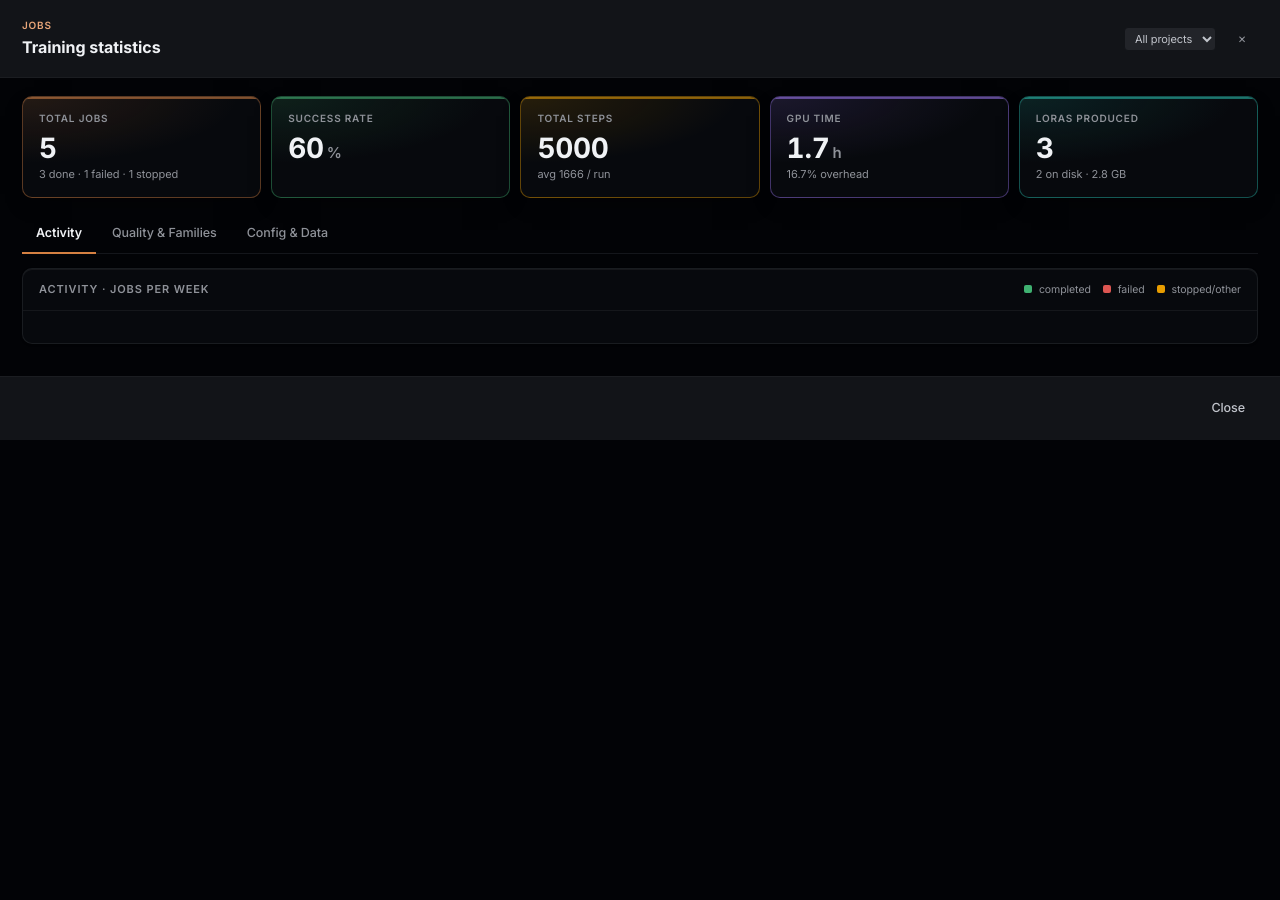
Scenario: TrainingStatsModalComponent › renders the family table with success-rate bars
Step 1. Click the button with class "tab" showing "Quality & Families" → (164, 234), box [98,214,231,254]
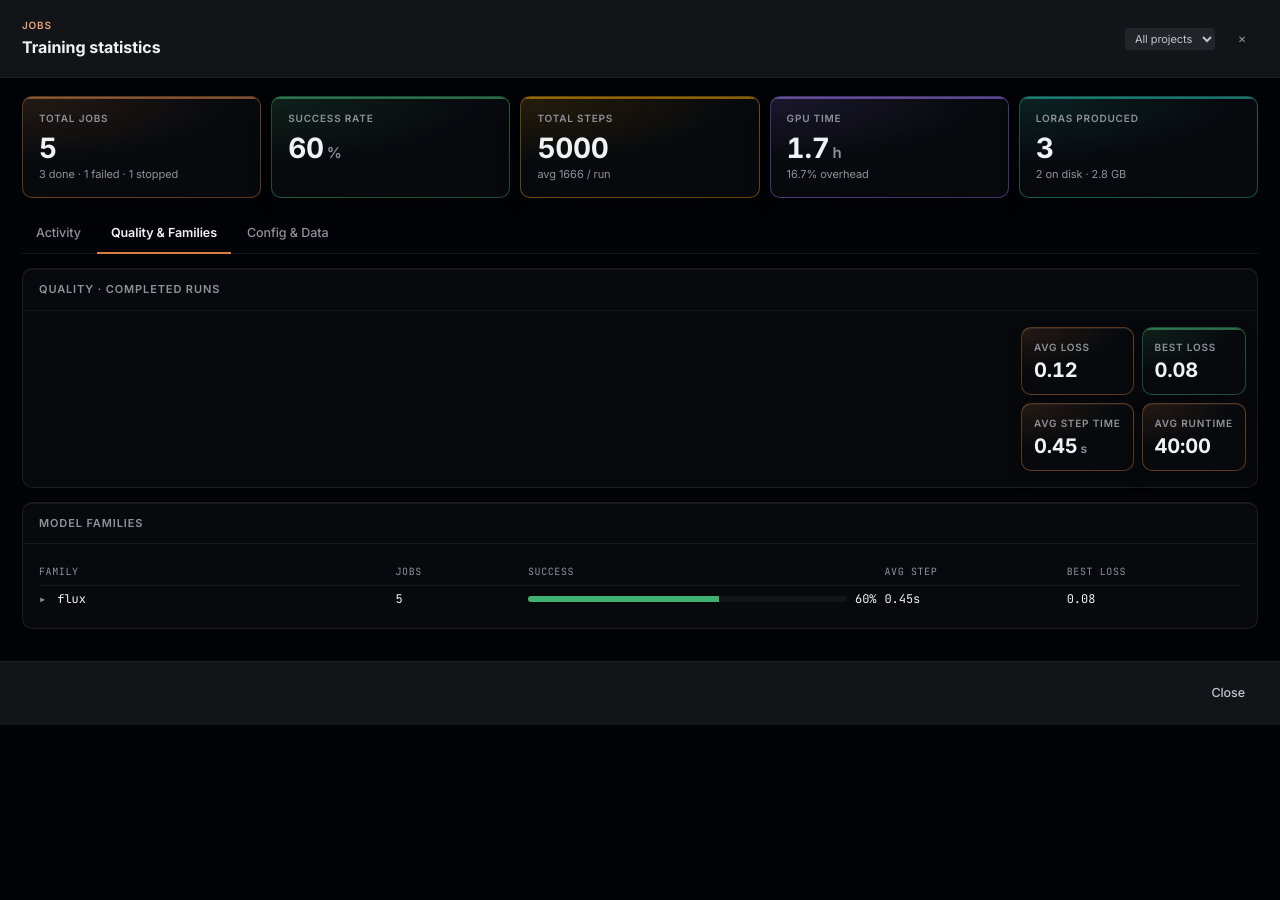
expect the number of elements with test id "stats-family-row" is 1: met, box [39,586,1241,612]
expect the element with test id "stats-family-row" shows "flux": met, box [50,591,86,607]
expect the element with test id "stats-family-row" shows "60": met, box [855,591,876,607]
